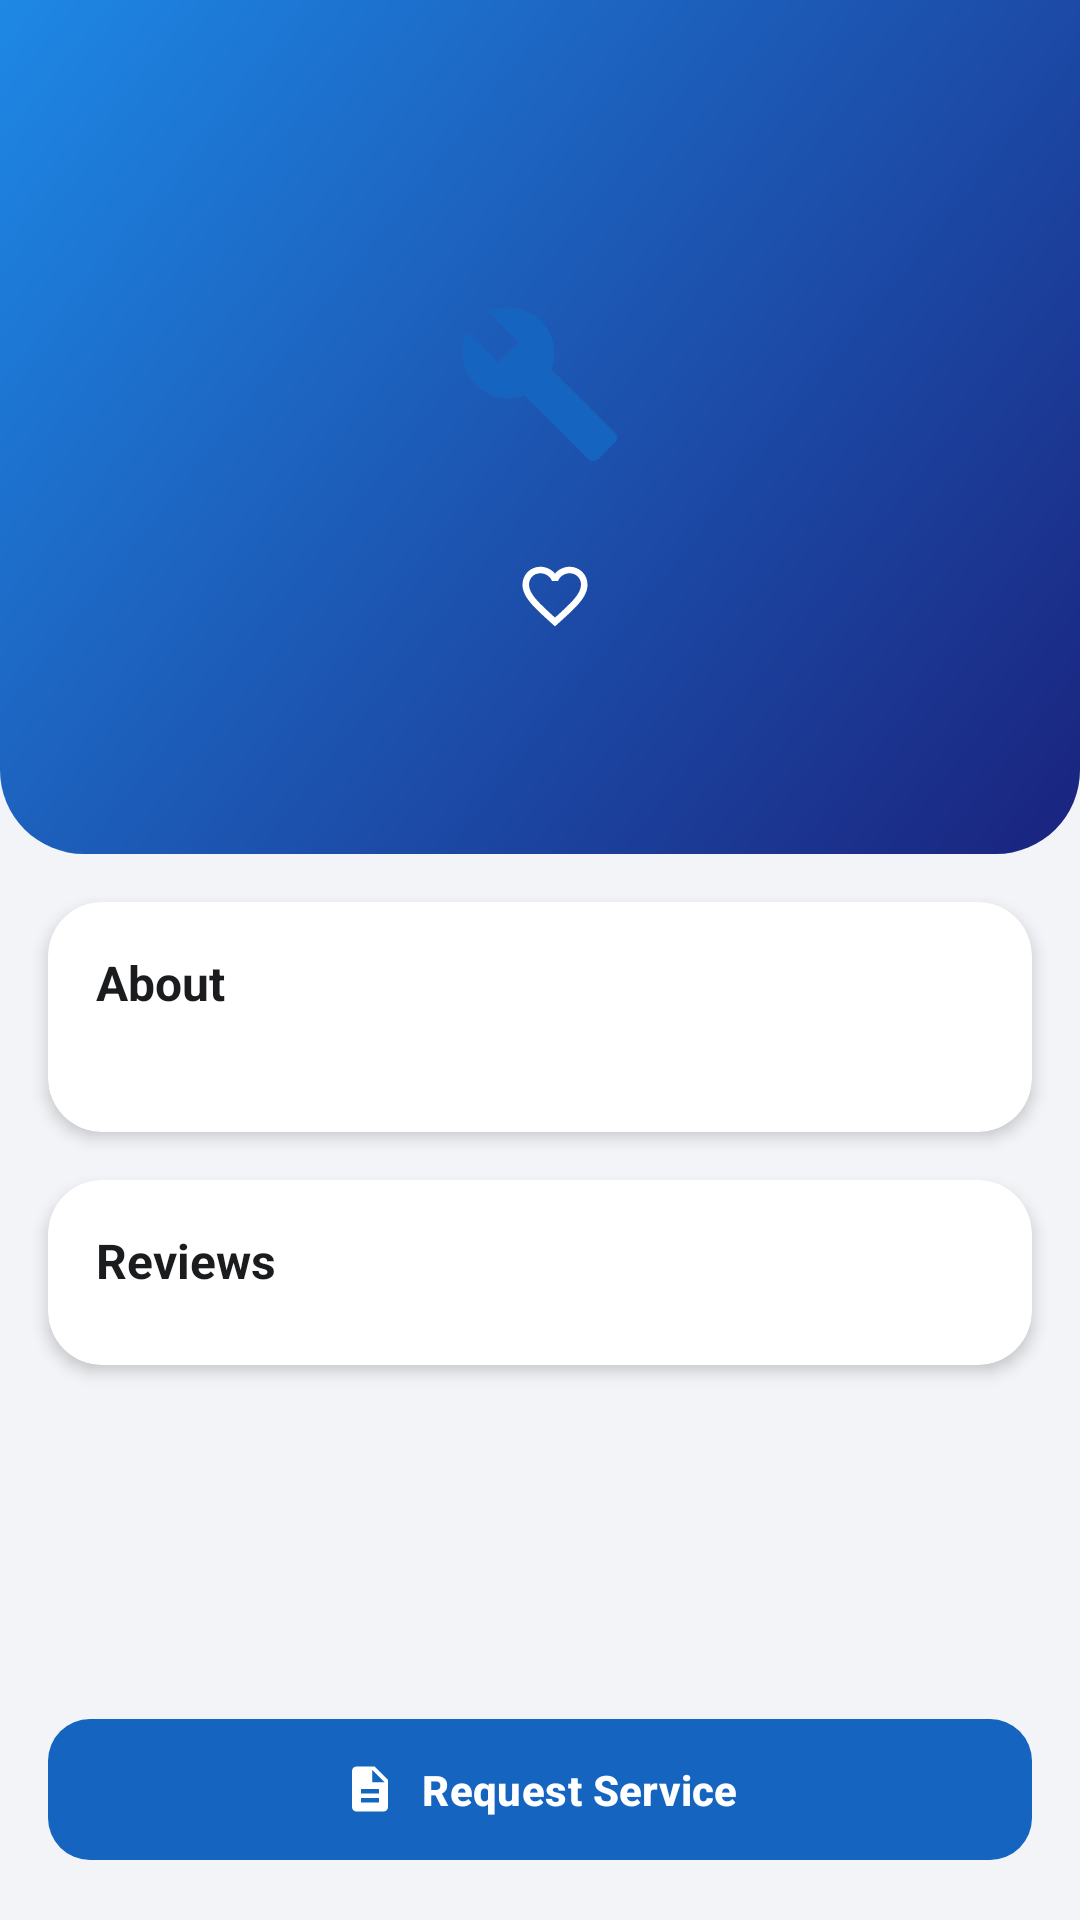

Where to tap for icons on this 1080w x 1920h app screen, as point (x, y):
Saved: point (555, 596)
